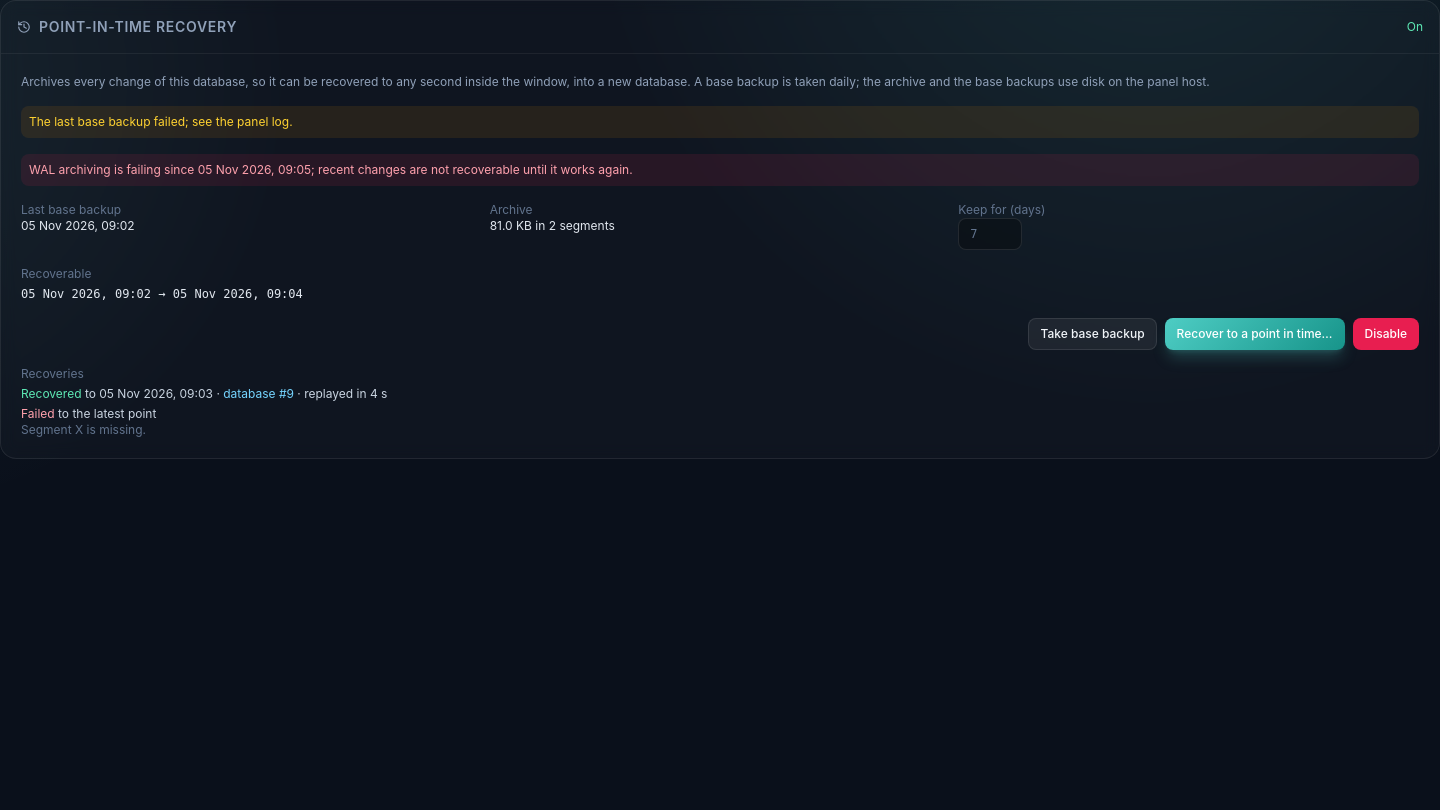
Scenario: PitrCard › shows the window, archiving health, errors and recoveries, and takes a base backup
The width and height of the screenshot is (1440, 810).
Expected: the list with test id "pitr-window" is shown, [21,287,303,301]
Expected: the text "The last base backup failed; see the panel log." is shown, [21,106,1419,138]
What coordinates should you click on to do the following:
click the button "Take base backup"
I would click on:
 (1092, 334)
Its box is [1028,318,1156,350].
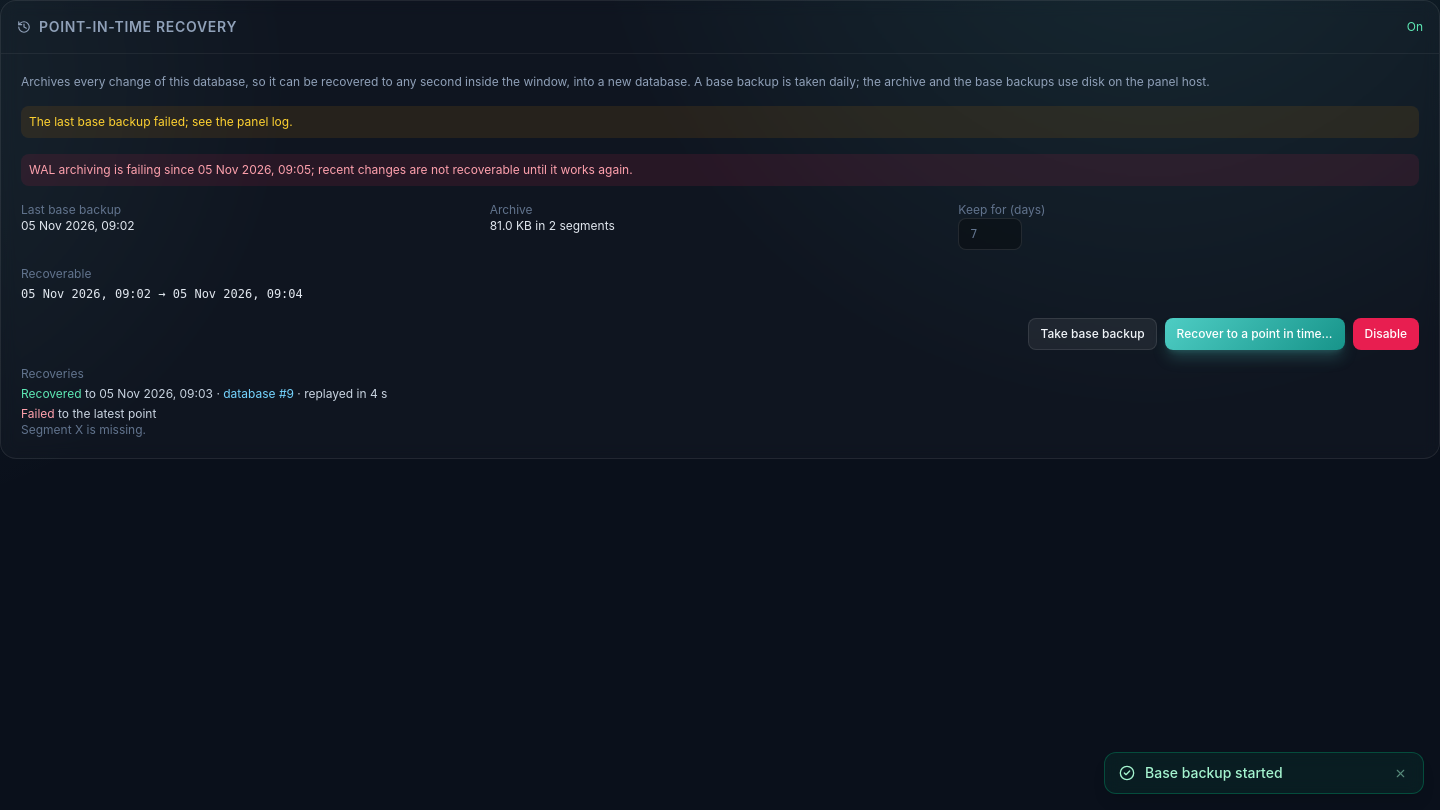
Result: the text "Base backup started" is shown at [1145,764,1283,781]
